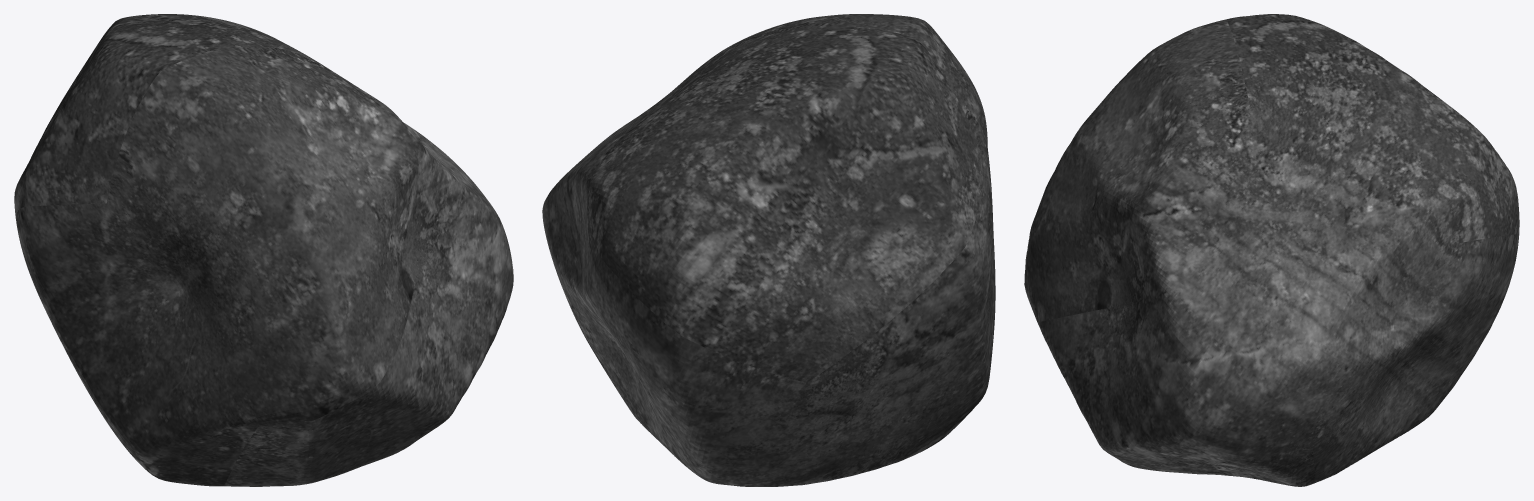
Rendered from Regular Rock.fbx.
The picture shows the model from 3 angles, left to right: view 1: azimuth 30°, elevation 25°; view 2: azimuth 150°, elevation 25°; view 3: azimuth 270°, elevation 25°; orthographic projection. The views are drawn at different scales.
Parts seen in each view (by area): view 1: Cube; view 2: Cube; view 3: Cube.
Part boxes in pixels (<box>): Cube: <box>14,14,513,486</box>; Cube: <box>542,14,995,486</box>; Cube: <box>1024,14,1519,486</box>.
Size of the model in its own units: 302 by 274 by 319.
